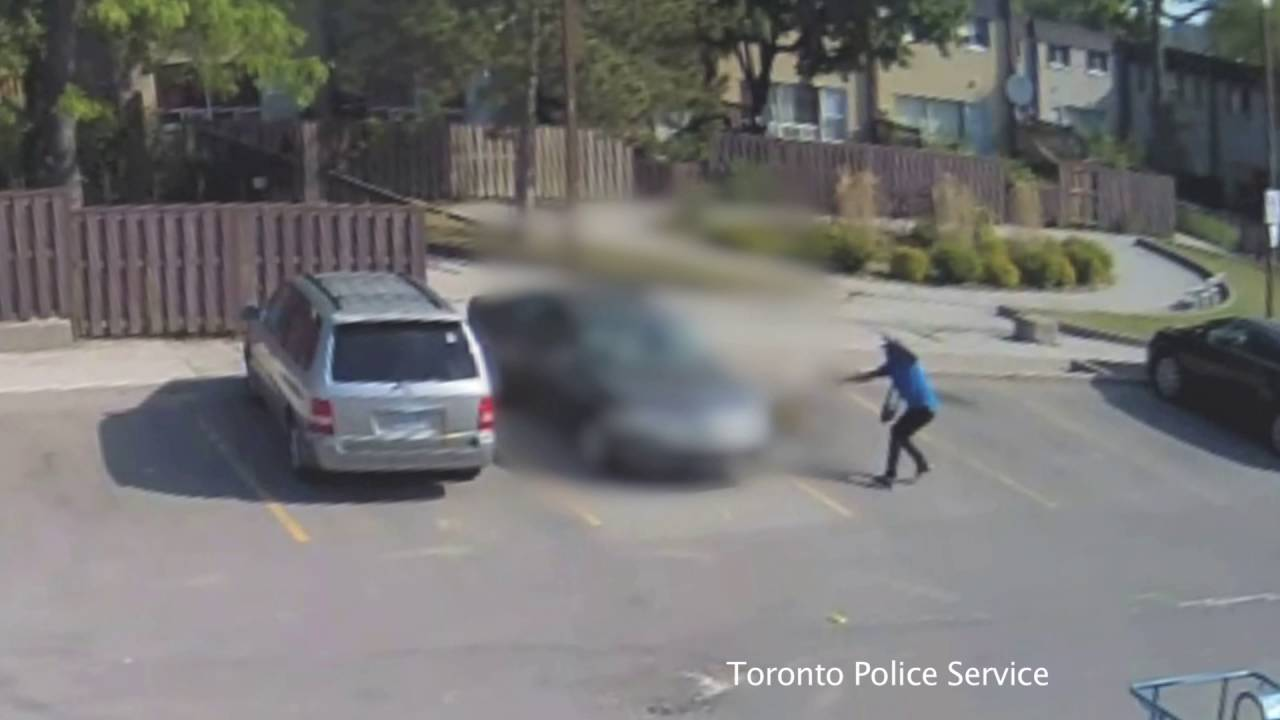person: (843, 328, 934, 488)
